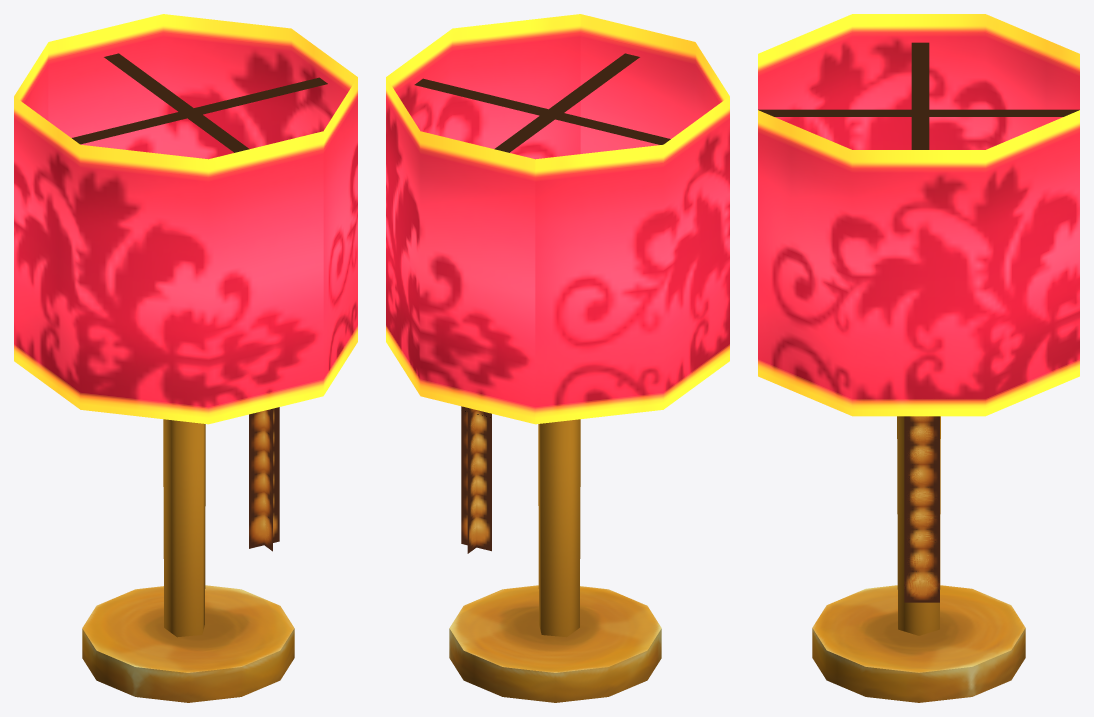
File: ELT0110009.fbx
3 views of the same model, side by side, from view 1: azimuth 30°, elevation 25°; view 2: azimuth 150°, elevation 25°; view 3: azimuth 270°, elevation 25° (orthographic).
Visible parts, largest first — view 1: smELT0110009; view 2: smELT0110009; view 3: smELT0110009.
Boxes of the visible parts, x1,y1,x2,y2 form: smELT0110009: (14,14,357,702); smELT0110009: (386,14,729,702); smELT0110009: (758,14,1079,702).
Bounding box in the file's own units: 27.77 × 54.74 × 27.77.
Materials: 1 (1 with a texture image).
